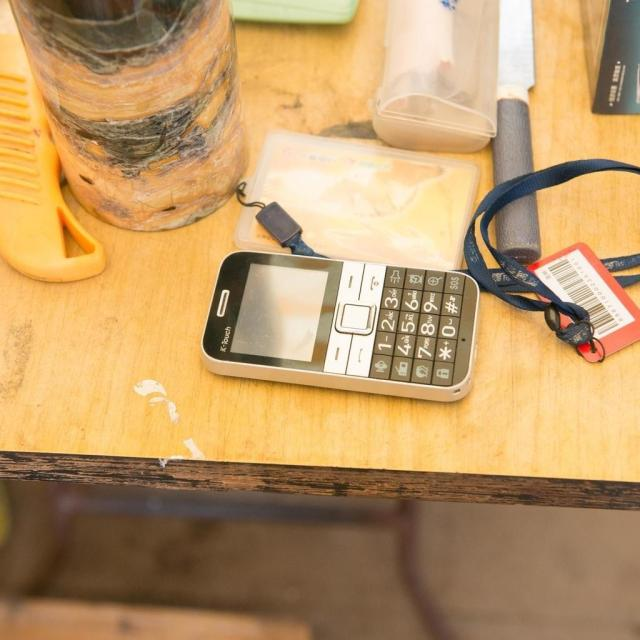Phone: (200, 249, 479, 404)
